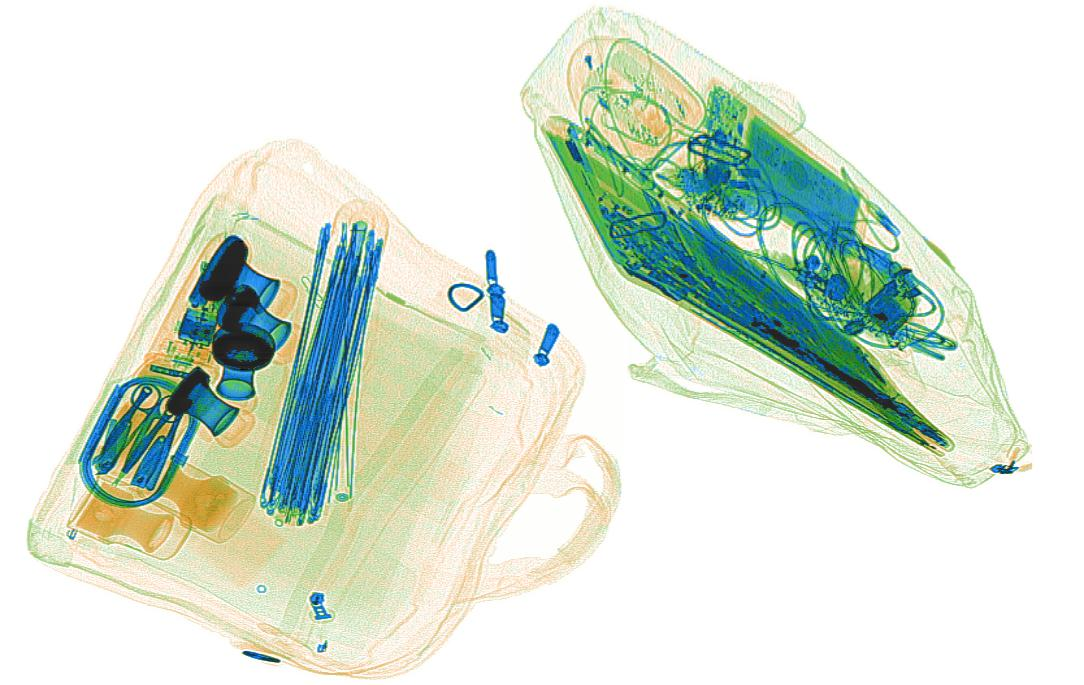battery: (188, 259, 225, 311)
scissors: (114, 381, 185, 486)
seal: (131, 449, 256, 546), (61, 474, 191, 560), (190, 231, 297, 325), (212, 284, 311, 368), (162, 362, 256, 449), (207, 322, 279, 419)
